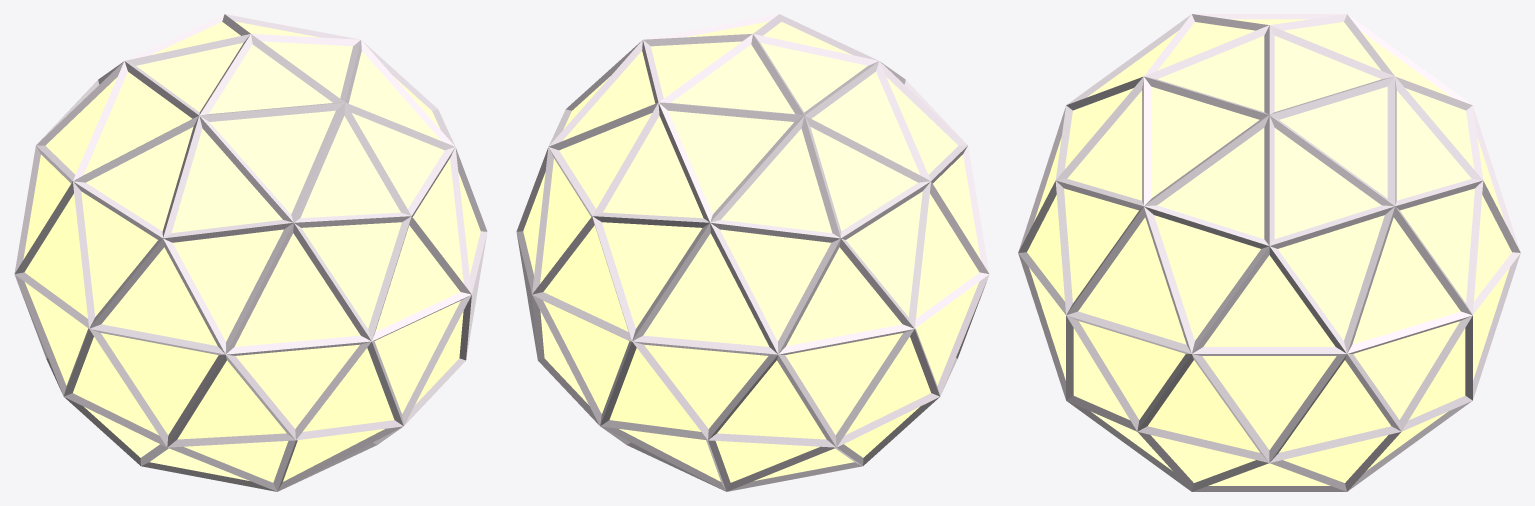
File: Sun.fbx
3 renders of one model, left to right at view 1: azimuth 30°, elevation 25°; view 2: azimuth 150°, elevation 25°; view 3: azimuth 270°, elevation 25°, orthographic. The views are drawn at different scales.
Parts seen in each view (by area): view 1: Sol Guapardo; view 2: Sol Guapardo; view 3: Sol Guapardo.
Part boxes in pixels (<box>): Sol Guapardo: <box>14,14,487,491</box>; Sol Guapardo: <box>516,14,989,491</box>; Sol Guapardo: <box>1018,14,1520,491</box>.
Bounding box in the file's own units: 194 × 204 × 204.
